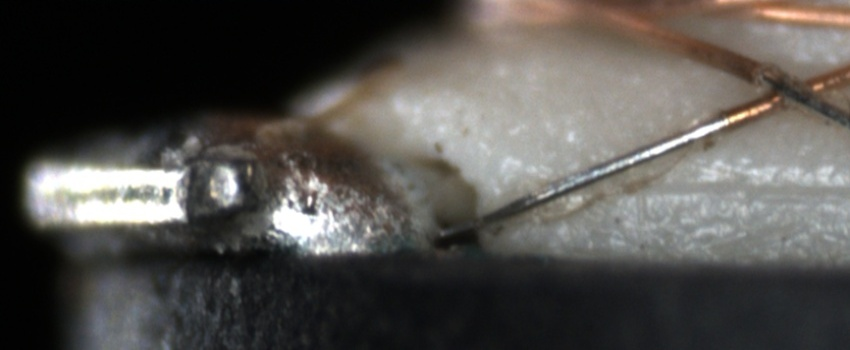CL: (749, 59, 836, 115)
DL: (612, 157, 850, 221)
TS: (440, 114, 728, 238)
